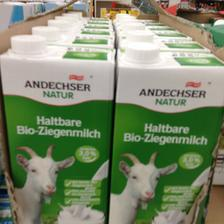Milch: (2, 31, 110, 223), (113, 41, 220, 224)
